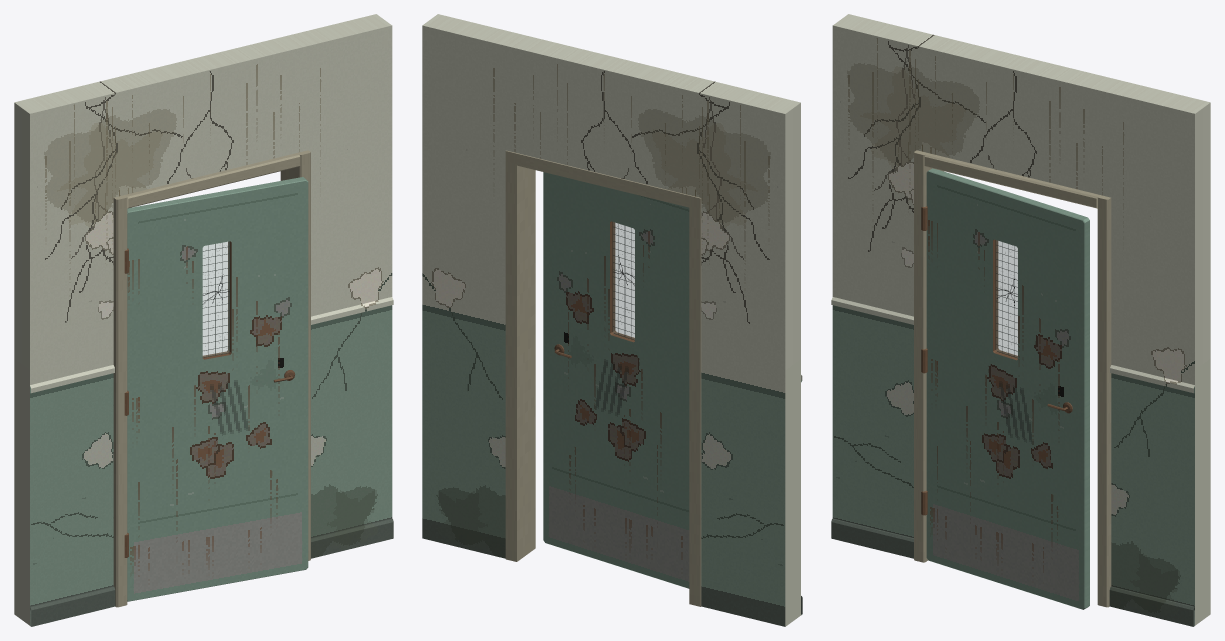
File: door_4b.glb
3 renders of one model, left to right at view 1: azimuth 30°, elevation 25°; view 2: azimuth 150°, elevation 25°; view 3: azimuth 330°, elevation 25°, orthographic.
Visible parts, largest first — view 1: leaf_faces, wall_left, wall_right, wall_lintel, frame_left, door_glass, frame_top, frame_right, leaf_edge, leaf_window_rim; view 2: wall_left, leaf_faces, wall_right, wall_lintel, frame_right, frame_left, door_glass, frame_top, leaf_window_rim; view 3: leaf_faces, wall_right, wall_left, wall_lintel, frame_right, frame_left, leaf_edge, frame_top, door_glass, leaf_window_rim.
Part boxes in pixels (<box>): leaf_faces: <box>127,181,307,601</box>; wall_left: <box>14,81,115,626</box>; wall_right: <box>291,14,393,558</box>; wall_lintel: <box>100,35,305,196</box>; frame_left: <box>113,195,127,607</box>; door_glass: <box>202,241,229,357</box>; frame_top: <box>125,153,300,208</box>; frame_right: <box>280,150,310,560</box>; leaf_edge: <box>127,177,308,601</box>; leaf_window_rim: <box>202,241,231,359</box>; wall_left: <box>699,81,802,626</box>; leaf_faces: <box>543,172,689,588</box>; wall_right: <box>422,14,523,558</box>; wall_lintel: <box>508,35,714,197</box>; frame_right: <box>505,150,535,561</box>; frame_left: <box>689,195,701,606</box>; door_glass: <box>612,222,634,340</box>; frame_top: <box>517,153,689,207</box>; leaf_window_rim: <box>610,221,634,342</box>; leaf_faces: <box>926,172,1084,609</box>; wall_right: <box>1109,81,1210,626</box>; wall_left: <box>831,14,933,558</box>; wall_lintel: <box>919,35,1124,196</box>; frame_right: <box>1097,195,1111,607</box>; frame_left: <box>914,150,943,562</box>; leaf_edge: <box>926,168,1089,609</box>; frame_top: <box>924,153,1099,208</box>; door_glass: <box>995,240,1017,358</box>; leaf_window_rim: <box>993,239,1017,360</box>.
Bounding box in the file's own units: 2 × 2.7 × 0.3087.
2 materials, 2 textured.
